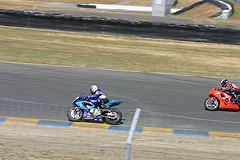helmet: (219, 79, 228, 87), (89, 85, 97, 91)
